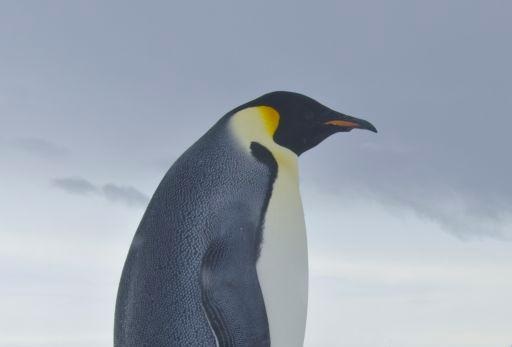Emperor Penguin: (69, 67, 411, 347)
